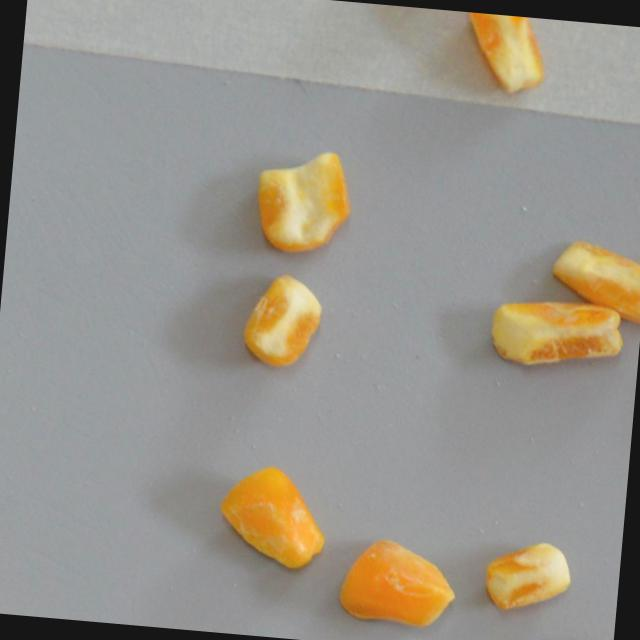dañado: (212, 457, 335, 576), (334, 530, 461, 634), (483, 288, 630, 377), (247, 142, 356, 259), (236, 266, 327, 378), (543, 232, 640, 331), (454, 11, 554, 98), (479, 532, 577, 618)
pelicula: (561, 631, 614, 640)
